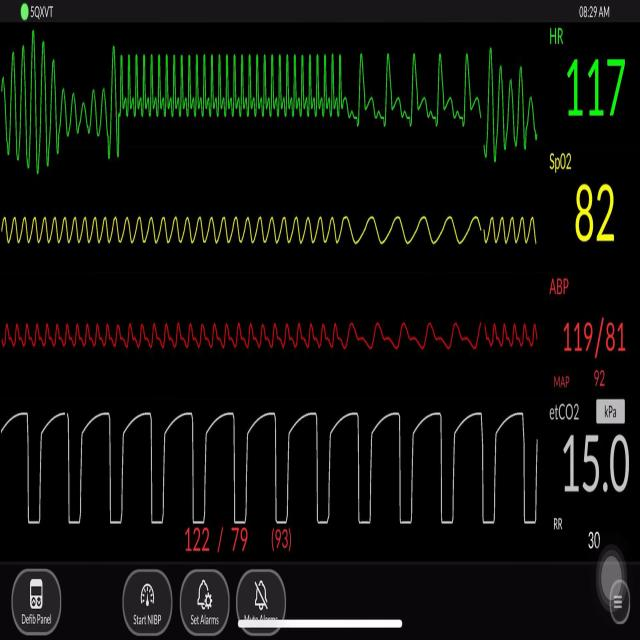danger: (117, 42, 345, 126)
